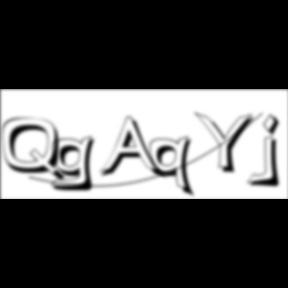A: (100, 116, 168, 182)
Q: (2, 117, 68, 184)
Y: (194, 110, 260, 176)
g: (50, 134, 102, 194)
j: (260, 113, 288, 191)
q: (150, 135, 198, 200)
